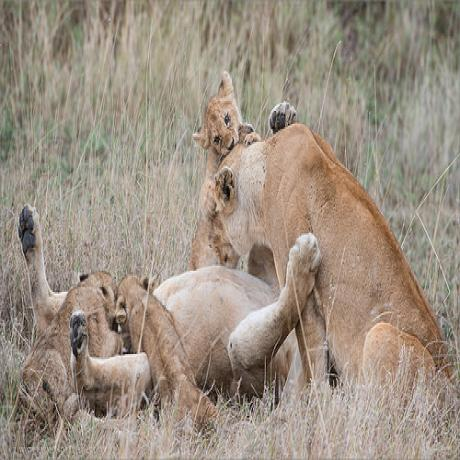Lion: (204, 122, 442, 394), (115, 253, 213, 438), (19, 263, 117, 430), (192, 81, 246, 160)
